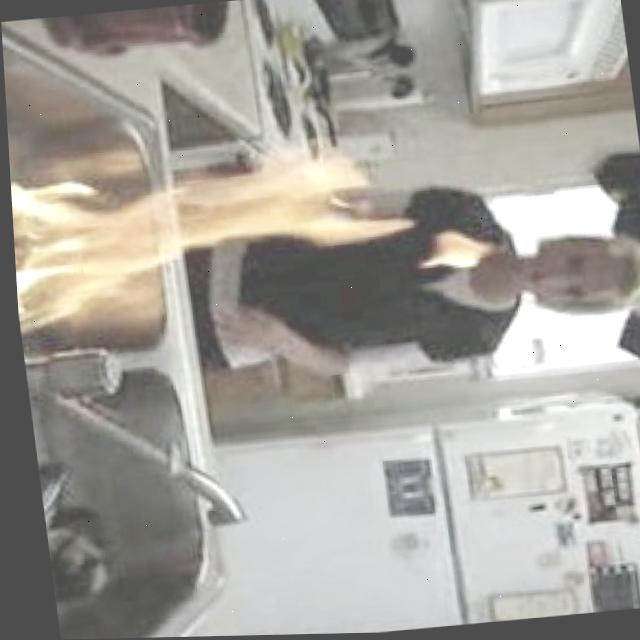Fire: (6, 131, 414, 336), (424, 227, 484, 274)
